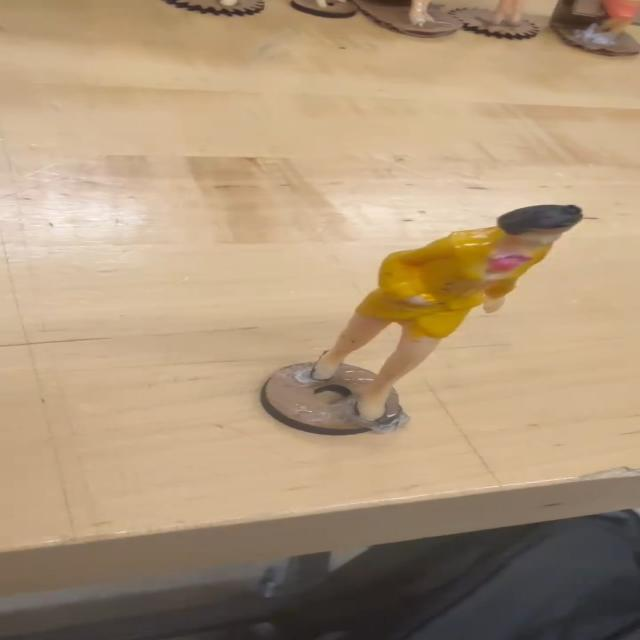Authorized: (290, 194, 606, 433)
